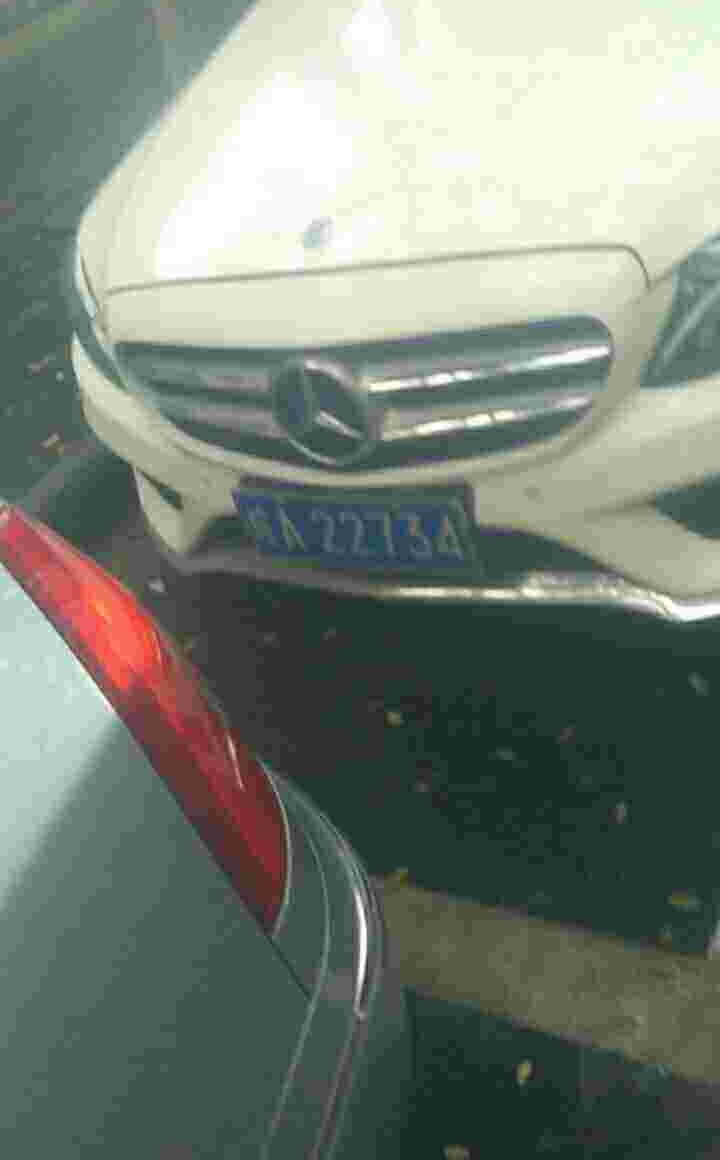license_plate: (240, 483, 482, 569)
